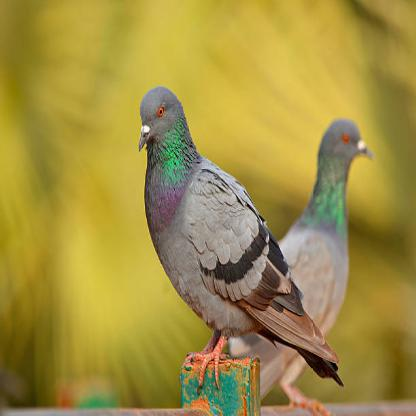Rock Pigeon: (137, 85, 314, 370), (287, 116, 384, 296)
